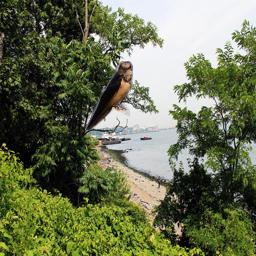Swallow: (85, 61, 133, 133)
